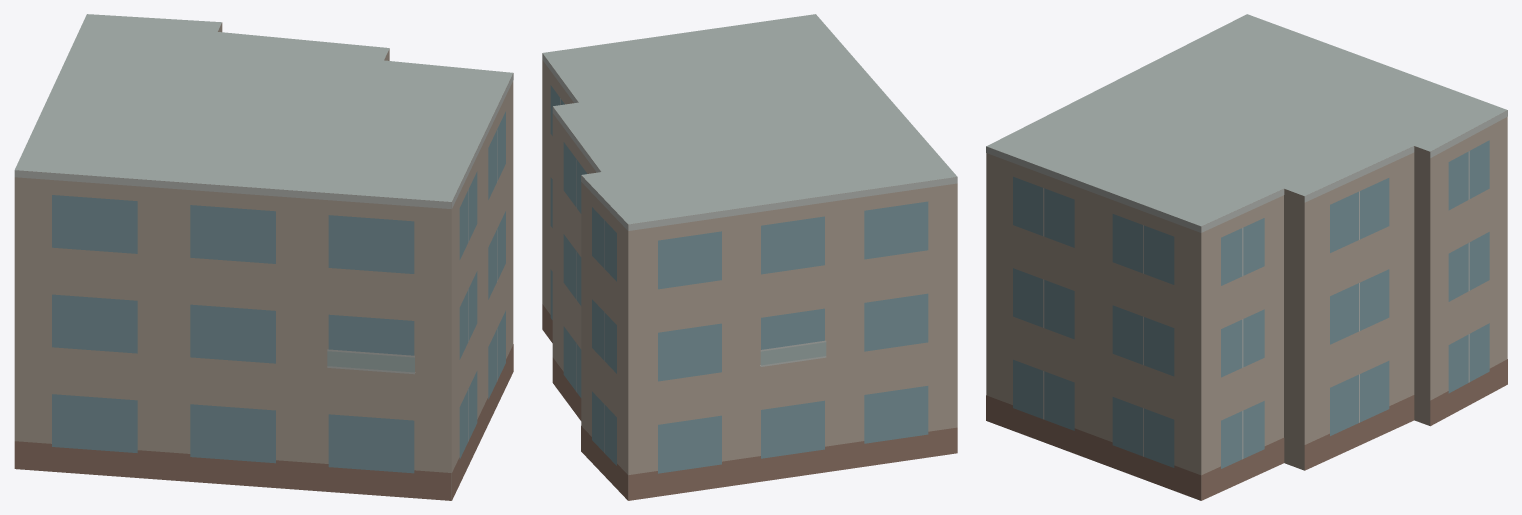
The model's file is survey-upis-32928849.glb.
3 views of the same model, side by side, from view 1: azimuth 30°, elevation 25°; view 2: azimuth 150°, elevation 25°; view 3: azimuth 270°, elevation 25° (orthographic). The views are drawn at different scales.
Parts seen in each view (by area): view 1: survey-upis-32928849.tmp; view 2: survey-upis-32928849.tmp; view 3: survey-upis-32928849.tmp.
Boxes of the visible parts, x1,y1,x2,y2 form: survey-upis-32928849.tmp: (14,14,513,500); survey-upis-32928849.tmp: (542,14,957,500); survey-upis-32928849.tmp: (986,14,1507,500).
Size of the model in its own units: 16.94 by 10.2 by 17.57.
